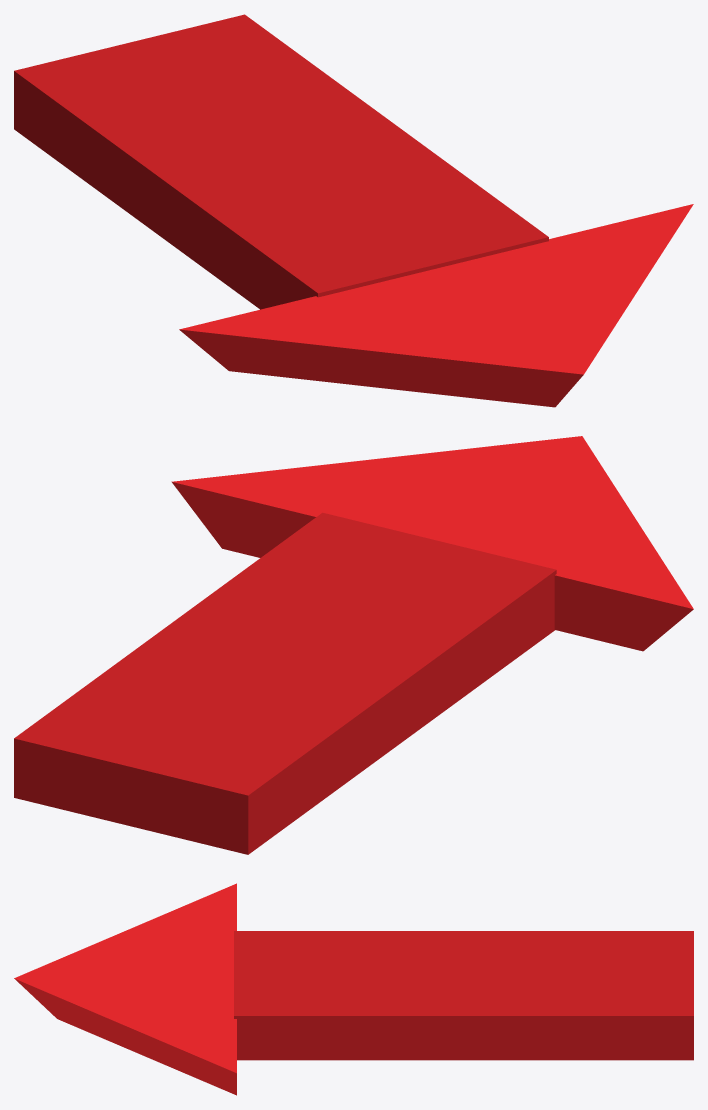
Rendered from Project.glb.
3 renders of one model, top to bottom at view 1: azimuth 30°, elevation 25°; view 2: azimuth 150°, elevation 25°; view 3: azimuth 270°, elevation 25°, orthographic. The views are drawn at different scales.
Visible parts, largest first — view 1: Box, Mesh; view 2: Box, Mesh; view 3: Box, Mesh.
Boxes of the visible parts, x1,y1,x2,y2 form: Box: (14,14,548,309); Mesh: (179,204,693,407); Box: (14,512,556,854); Mesh: (171,436,693,651); Box: (234,931,693,1060); Mesh: (14,883,236,1095).
Bounding box in the file's own units: 0.9778 × 0.1061 × 1.48.
